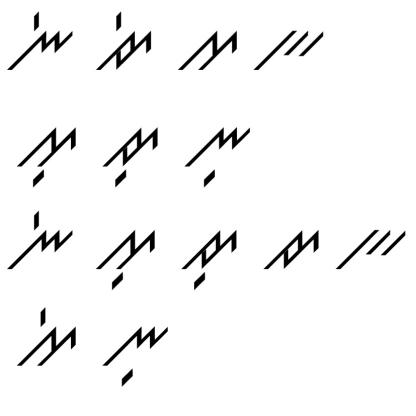ja: (260, 222, 326, 280)
je: (92, 10, 156, 74)
ju: (99, 119, 161, 193), (181, 225, 238, 293)
nye: (5, 206, 80, 276), (5, 9, 76, 78)
nyu: (184, 118, 254, 192), (100, 319, 171, 390)
sa: (176, 22, 244, 77)
se: (13, 304, 82, 373)
su: (15, 121, 80, 187), (94, 225, 159, 290)
